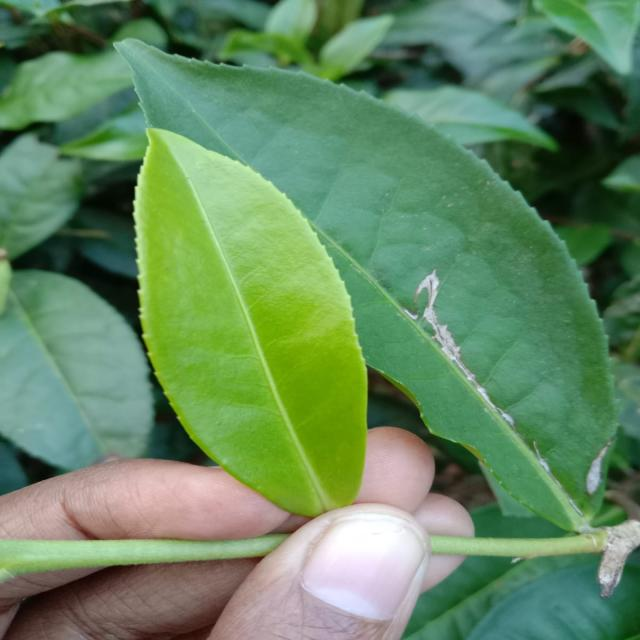Category C(4-7 days): (104, 107, 396, 525)
